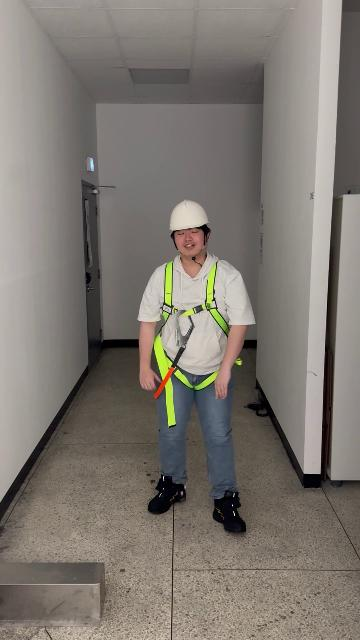helmet_worn: (168, 198, 211, 231)
shoe_worn: (147, 474, 186, 514), (212, 491, 245, 532)
vest_worn: (150, 261, 243, 422)
